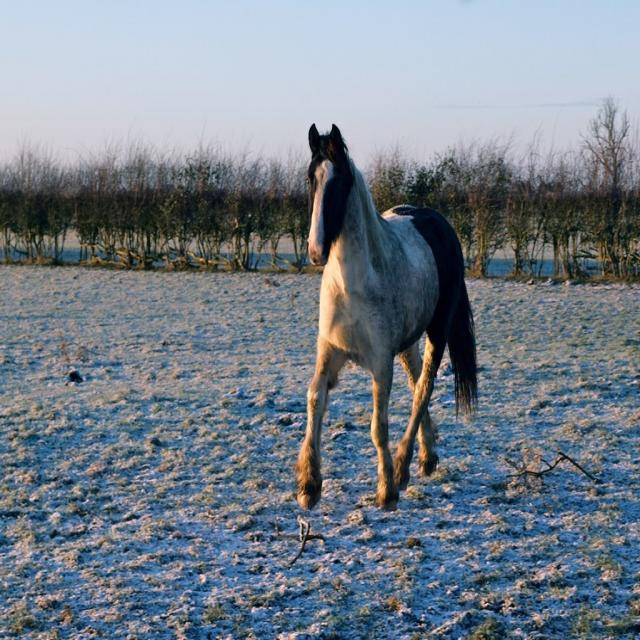Horse: (298, 120, 480, 512)
